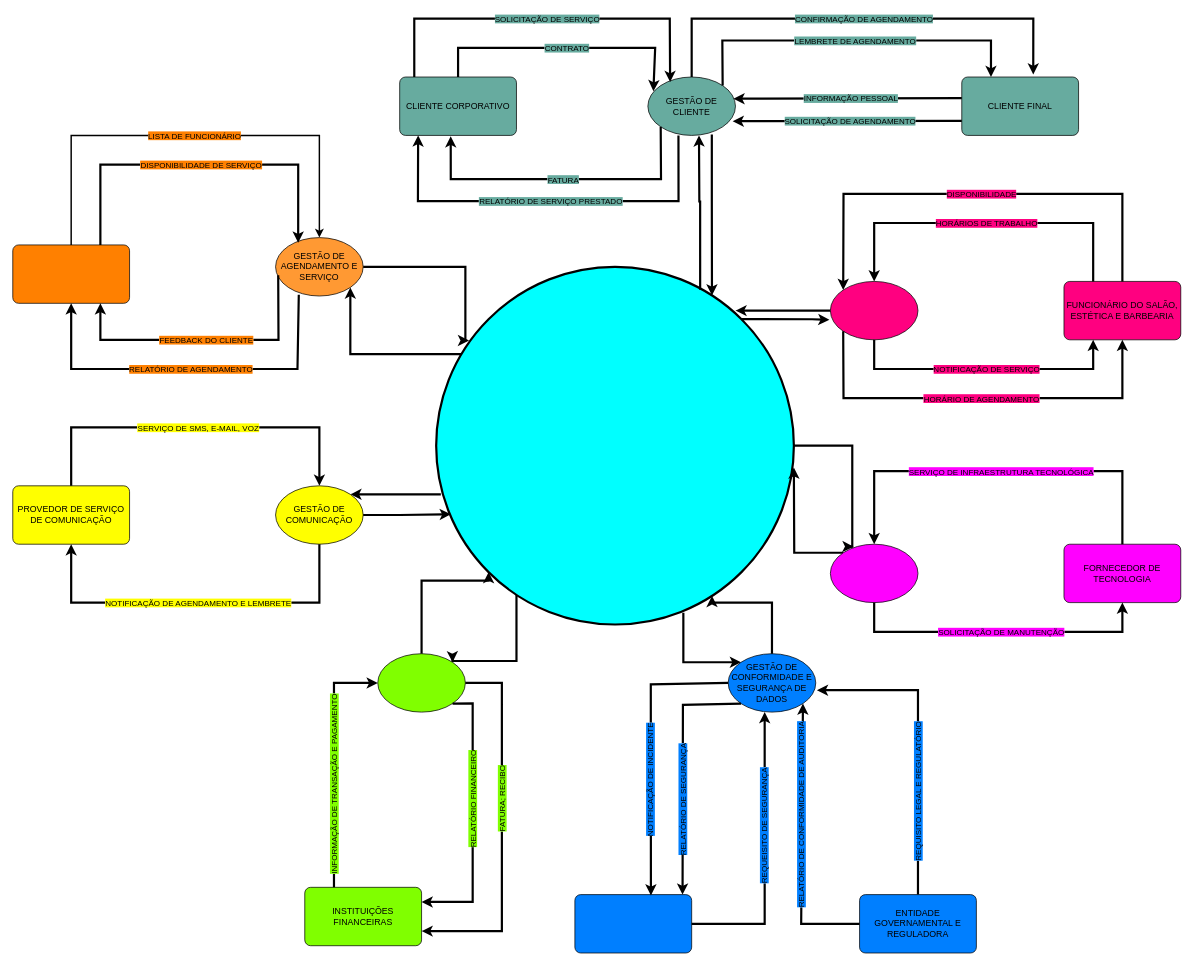
Image size: 1194x966. Some labels were removed from this diagram. The shapes that lost their labels are listed below. From the top down, each one's centre as x and y in pixels, then its label:
At (71,273): "SALÃO DE ESTÉTICA, CENTRO DE ESTÉTICA E BARBEARIA".
At (874,310): "GESTÃO DE FUNCIONÁRIO".
At (615,445): "SISTEMA DE AGENDAMENTO ELETRONICO ESBELTA".
At (874,573): "GESTÃO DE FORNECEDOR".
At (421,682): "GESTÃO FINANCEIRO E CONTÁBIL".
At (633,923): "ENTIDADES DE SEGURANÇA DE DADOS".
